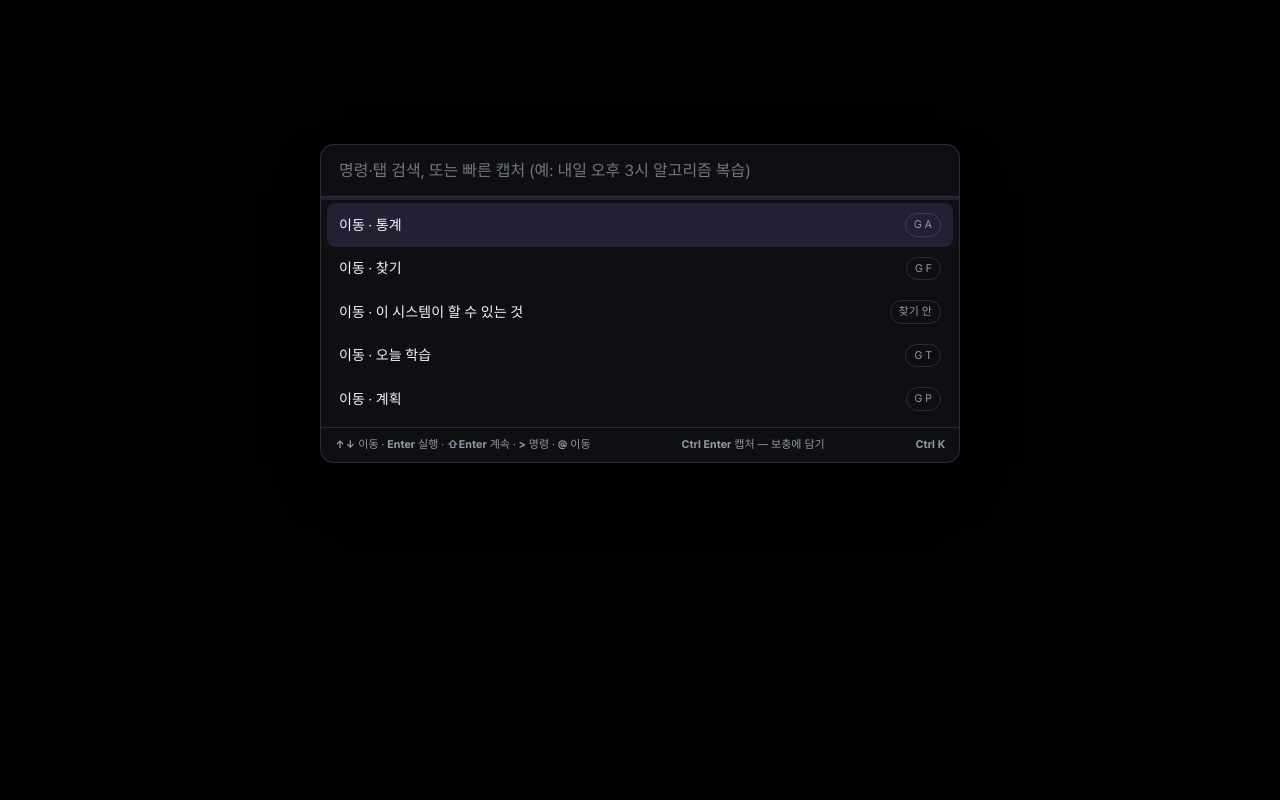
Test: N-1: 히트 위에서 → 가 그 객체의 동사 목록을 연다
Type "변위전류" into the dropdown with placeholder "명령·탭 검색, 또는 빠른 캡처 (예: 내일 오후 3시 알고리즘 복습)" at [640, 171], box [321,145,959,197]
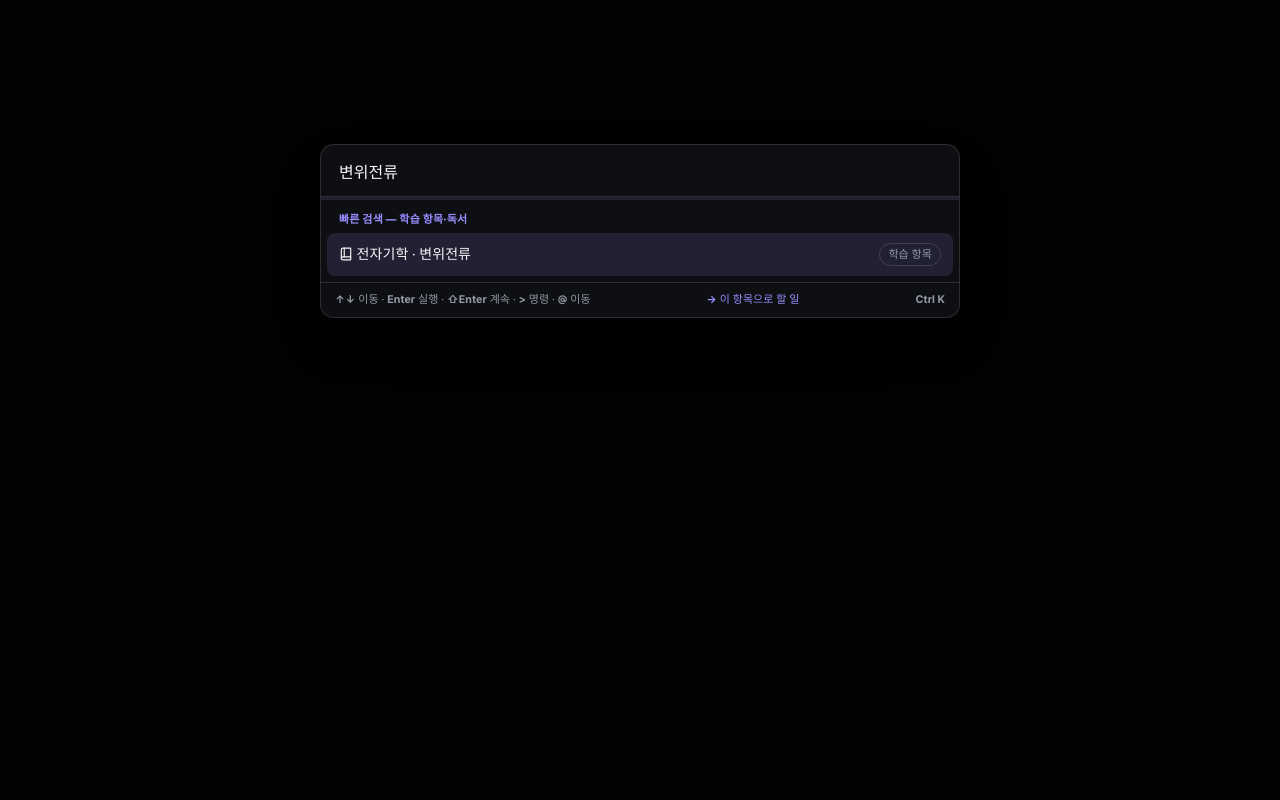
Press ArrowRight in the dropdown with placeholder "명령·탭 검색, 또는 빠른 캡처 (예: 내일 오후 3시 알고리즘 복습)", box [321,145,959,197]
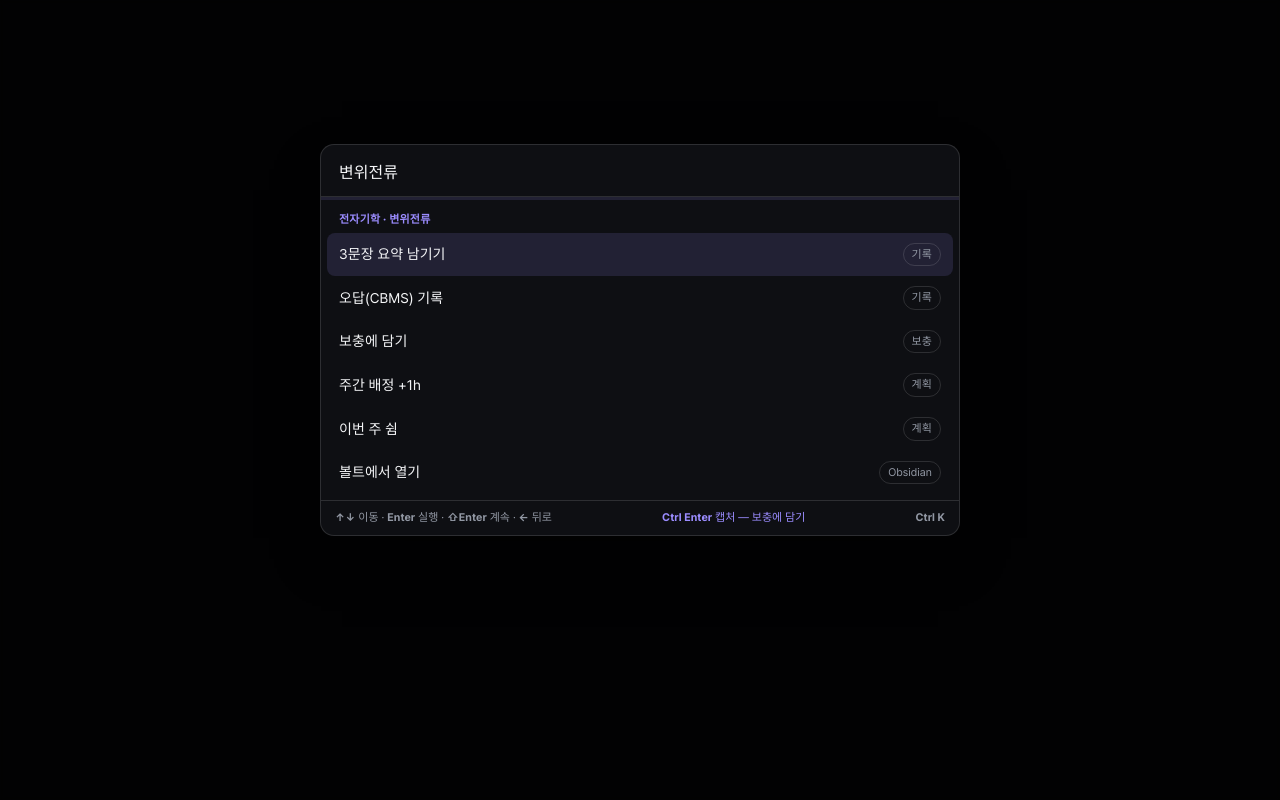
Now the text "보충에 담기" is shown, box [339,330,407,353]
Now the text "빠른 검색" is gone
